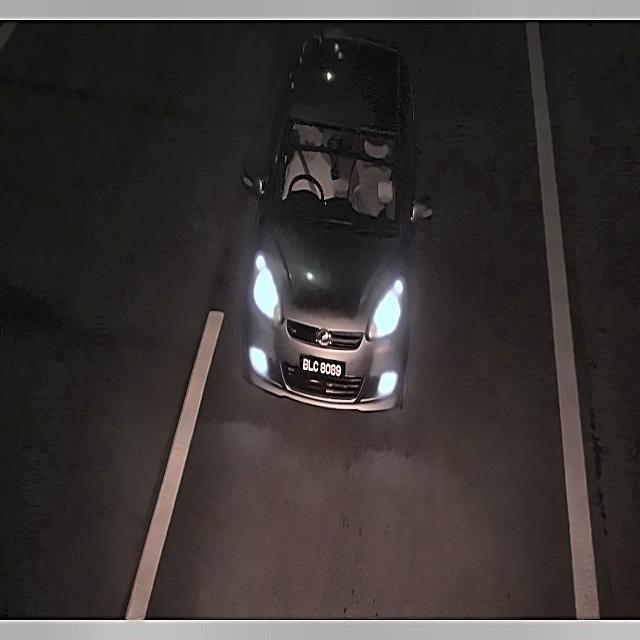car: (296, 351, 352, 386)
